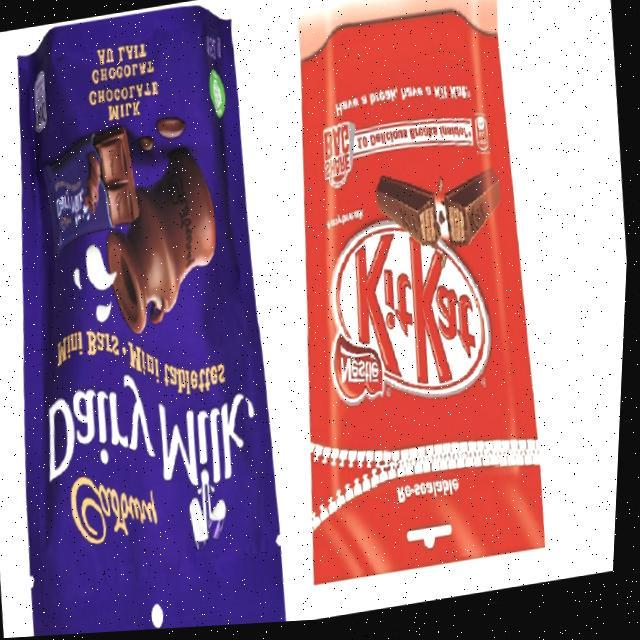cadbury_chocolate: (24, 51, 283, 640)
kitkat_chocolate: (305, 24, 560, 578)
